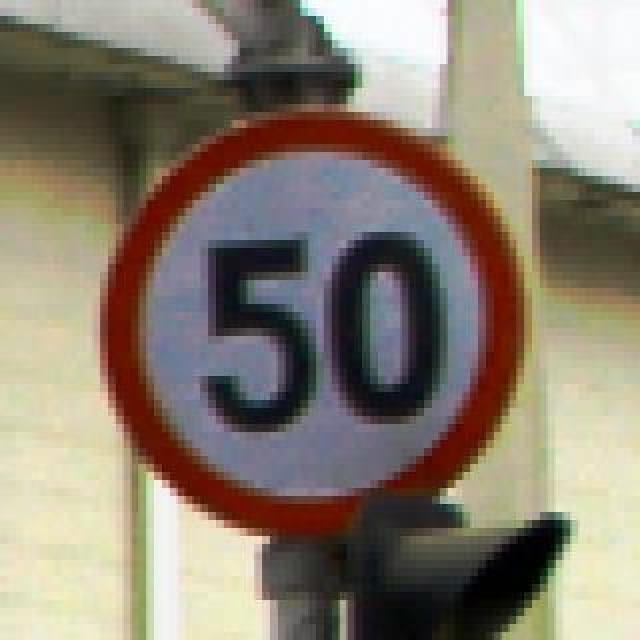50 kph: (100, 96, 516, 528)
